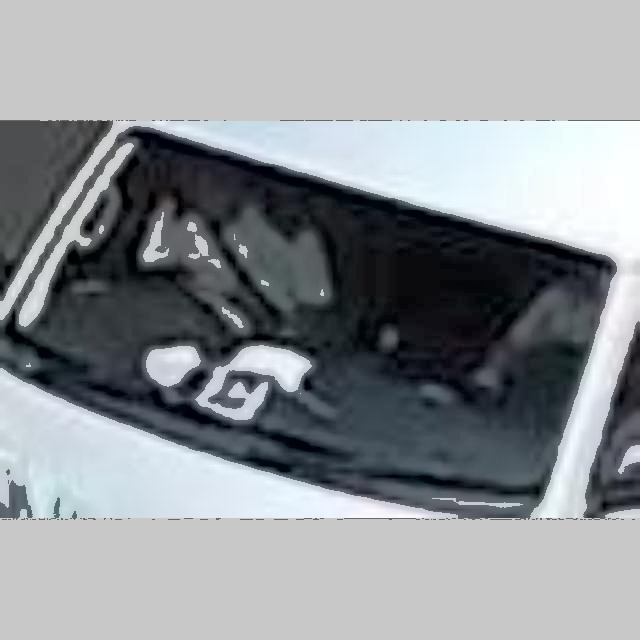pakai: (127, 176, 353, 336)
